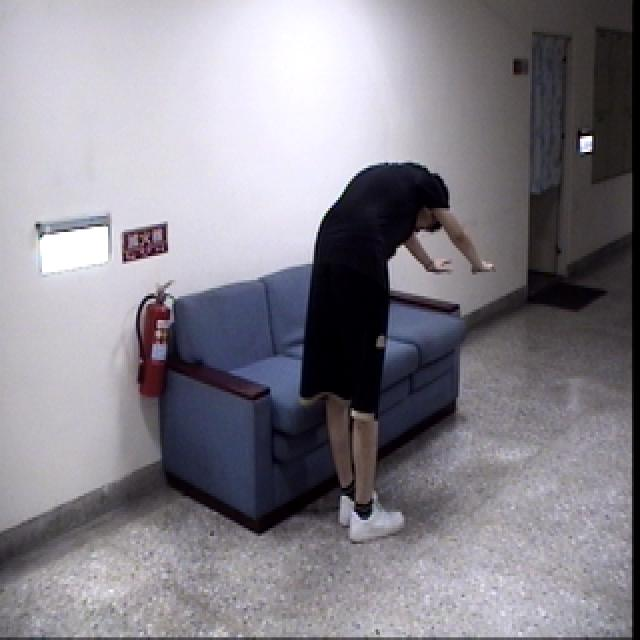bend: (292, 145, 505, 552)
